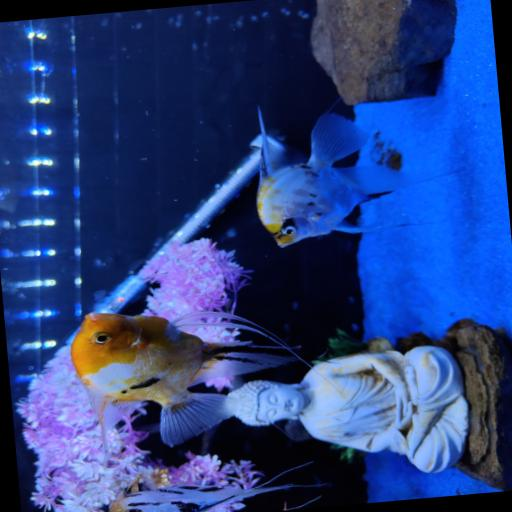Fish: (71, 312, 296, 449), (257, 109, 463, 247), (110, 476, 294, 511)
